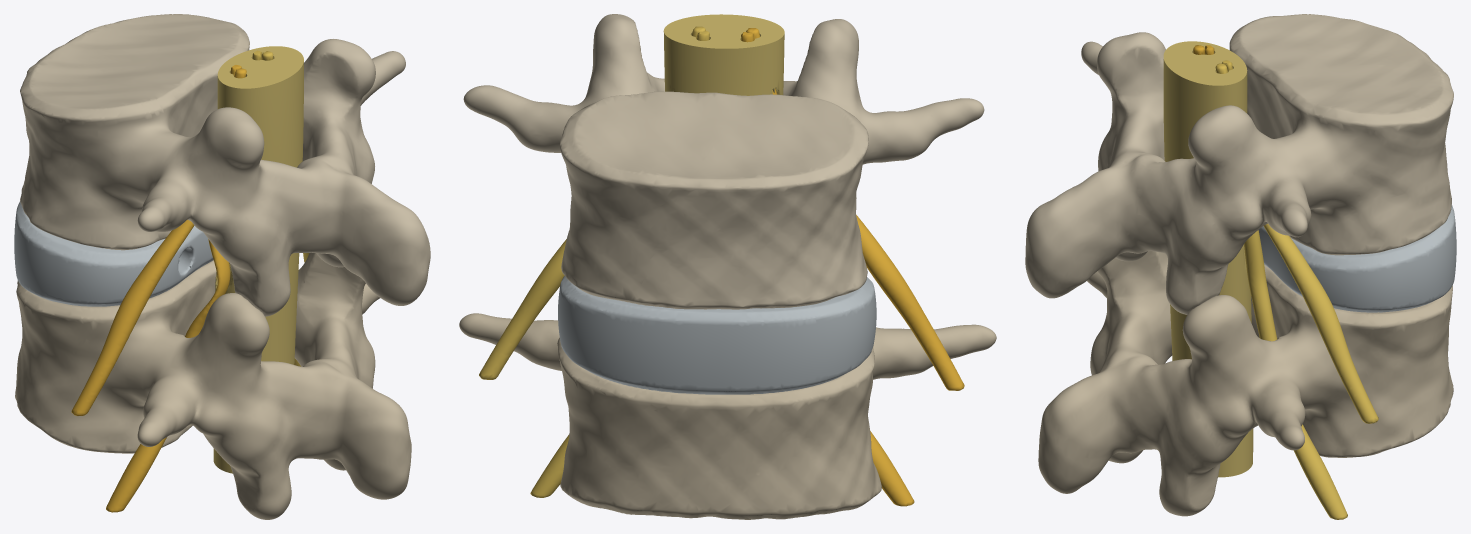
Rendered from spine_kyphoplasty.glb.
3 views of the same model, side by side, from view 1: azimuth 30°, elevation 25°; view 2: azimuth 150°, elevation 25°; view 3: azimuth 270°, elevation 25° (orthographic). The views are drawn at different scales.
Parts seen in each view (by area): view 1: l4_vertebra, l5_vertebra, annulus_fibrosus, thecal_sac, l4_nerve_root_left, l5_nerve_root_left; view 2: l4_vertebra, l5_vertebra, annulus_fibrosus, thecal_sac, nerve_roots, l4_nerve_root_left, l5_nerve_root_left; view 3: l4_vertebra, l5_vertebra, annulus_fibrosus, thecal_sac, nerve_roots.
Boxes of the visible parts, <box> form: l4_vertebra: <box>20,14,430,316</box>; l5_vertebra: <box>15,253,411,519</box>; annulus_fibrosus: <box>14,201,213,306</box>; thecal_sac: <box>213,46,303,473</box>; l4_nerve_root_left: <box>71,68,246,415</box>; l5_nerve_root_left: <box>106,65,241,512</box>; l4_vertebra: <box>463,14,984,309</box>; l5_vertebra: <box>459,313,996,519</box>; annulus_fibrosus: <box>558,276,876,394</box>; thecal_sac: <box>663,14,784,95</box>; nerve_roots: <box>479,26,709,497</box>; l4_nerve_root_left: <box>746,28,964,390</box>; l5_nerve_root_left: <box>741,32,914,506</box>; l4_vertebra: <box>1025,14,1453,314</box>; l5_vertebra: <box>1038,251,1453,516</box>; annulus_fibrosus: <box>1258,204,1456,312</box>; thecal_sac: <box>1163,41,1253,477</box>; nerve_roots: <box>1215,60,1378,519</box>.
Bounding box in the file's own units: 7.95 × 7.92 × 7.36.
